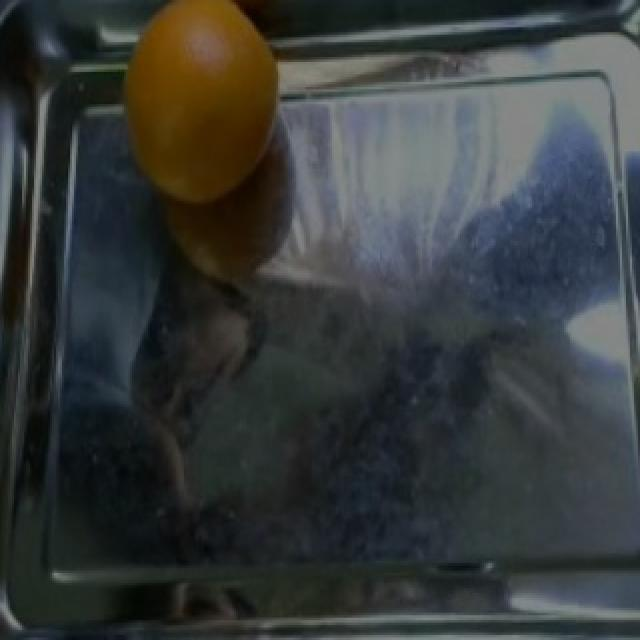Fruit: (116, 0, 288, 213)
